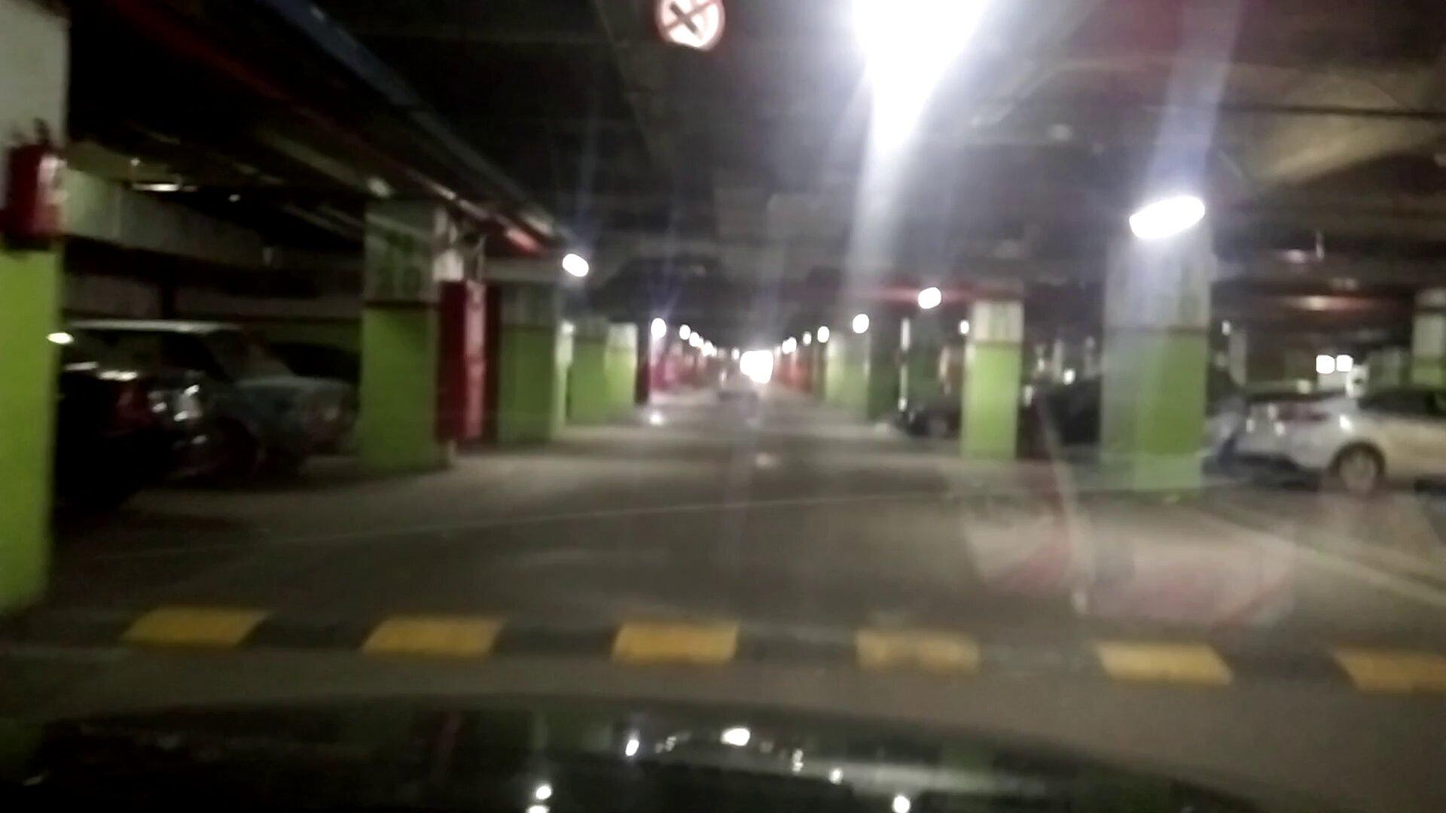Bump: (34, 576, 1446, 698)
